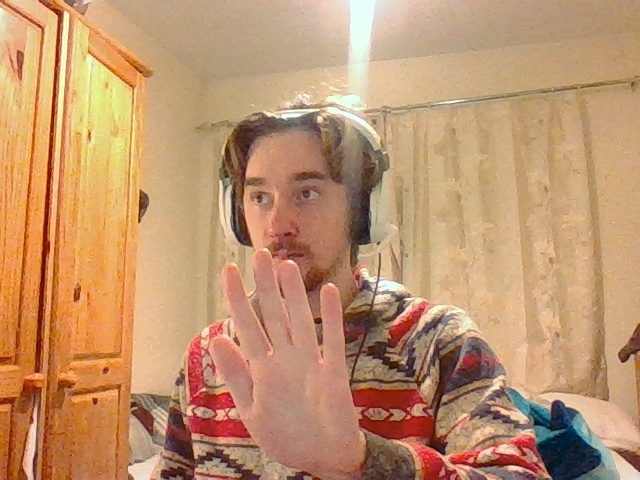hello: (205, 248, 354, 466)
